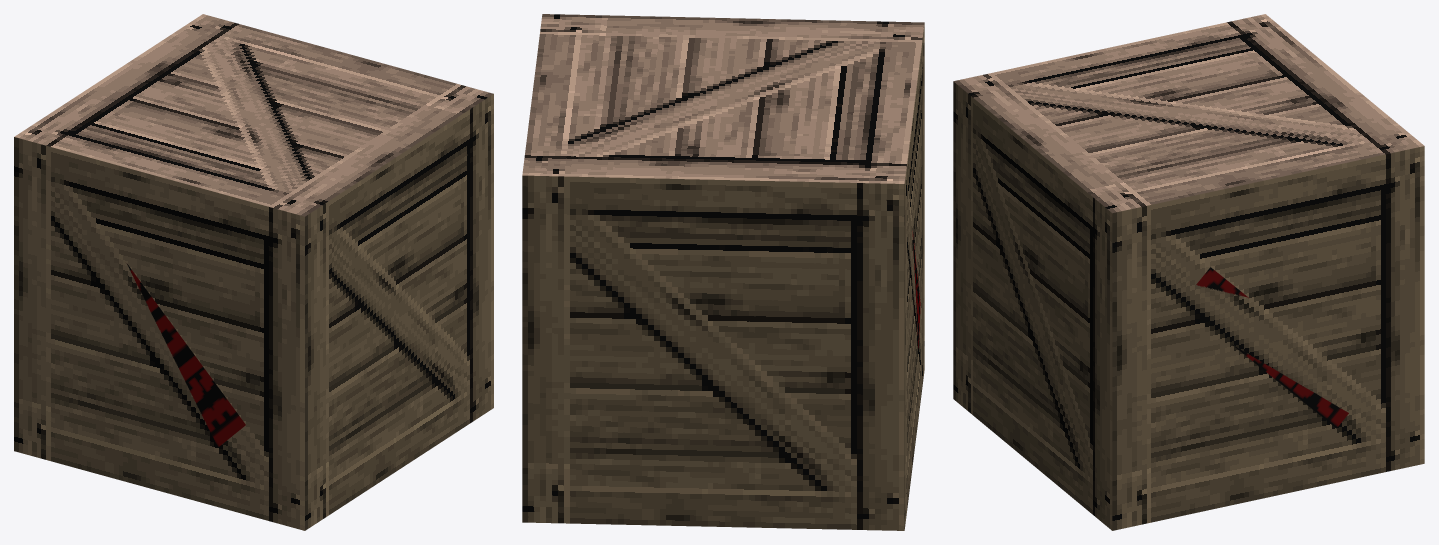
Rendered from primary_092.glb.
The picture shows the model from 3 angles, left to right: view 1: azimuth 30°, elevation 25°; view 2: azimuth 150°, elevation 25°; view 3: azimuth 270°, elevation 25°; orthographic projection. The views are drawn at different scales.
Visible parts, largest first — view 1: Object; view 2: Object; view 3: Object.
Part boxes in pixels (x1,y1,x2,y2): Object: (14, 14, 493, 530); Object: (522, 14, 924, 530); Object: (953, 14, 1424, 530).
Size of the model in its own units: 1.66 by 1.23 by 1.66.
Materials: 7 (7 with a texture image).
